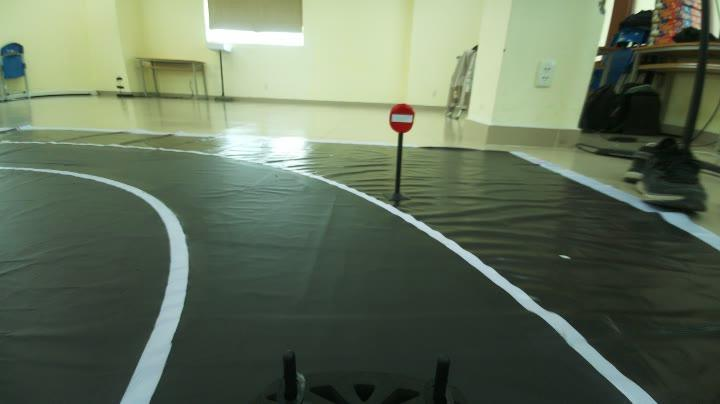no_entry: (383, 104, 421, 131)
